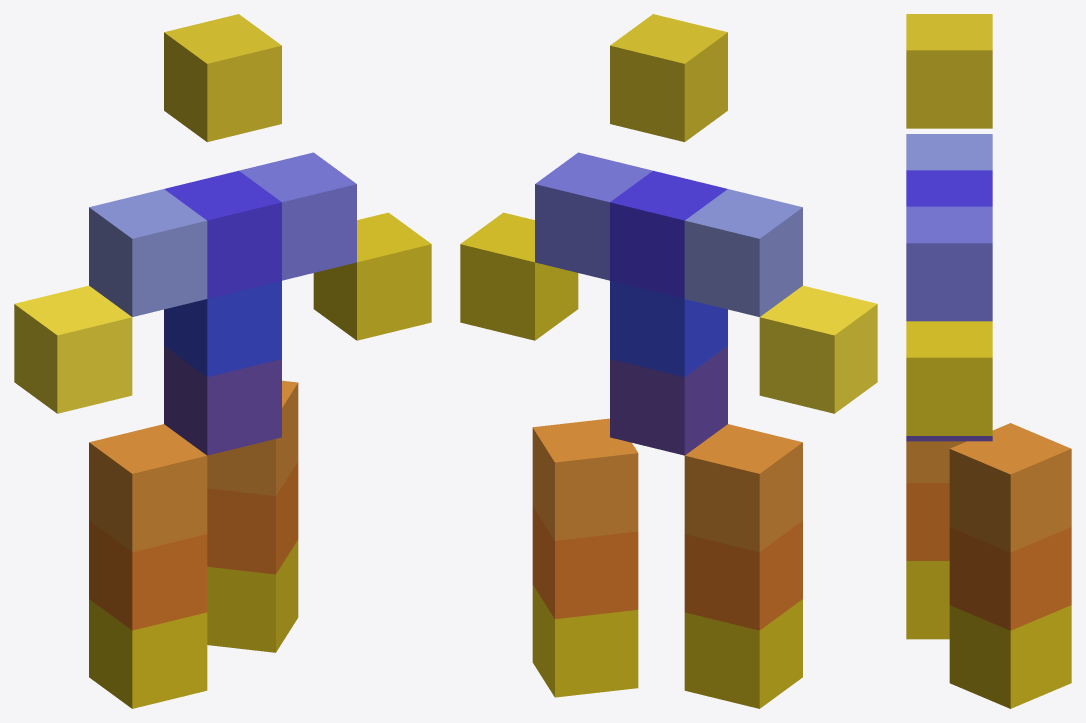
The model's file is kwadratowy_ludzik.gltf.
3 renders of one model, left to right at view 1: azimuth 30°, elevation 25°; view 2: azimuth 150°, elevation 25°; view 3: azimuth 270°, elevation 25°, orthographic.
Parts seen in each view (by area): view 1: RightLeg, Corpus, RightArm, LeftArm, LeftLeg, Head; view 2: RightLeg, LeftLeg, Corpus, RightArm, LeftArm, Head; view 3: LeftLeg, LeftArm, Head, RightLeg, Corpus, RightArm.
Part boxes in pixels (x1,y1,x2,y2): RightLeg: (89, 424, 207, 708); Corpus: (164, 170, 281, 455); RightArm: (14, 189, 207, 413); LeftArm: (239, 152, 431, 340); LeftLeg: (207, 380, 298, 652); Head: (164, 14, 281, 142); RightLeg: (684, 424, 802, 708); LeftLeg: (532, 418, 638, 697); Corpus: (610, 170, 727, 455); RightArm: (684, 189, 877, 413); LeftArm: (460, 152, 652, 340); Head: (610, 14, 727, 142); LeftLeg: (949, 423, 1071, 708); LeftArm: (906, 206, 992, 435); Head: (906, 14, 992, 128); RightLeg: (906, 441, 966, 639); Corpus: (906, 170, 992, 441); RightArm: (906, 134, 992, 170).
Bounding box in the file's own units: 5 × 8 × 1.91.
